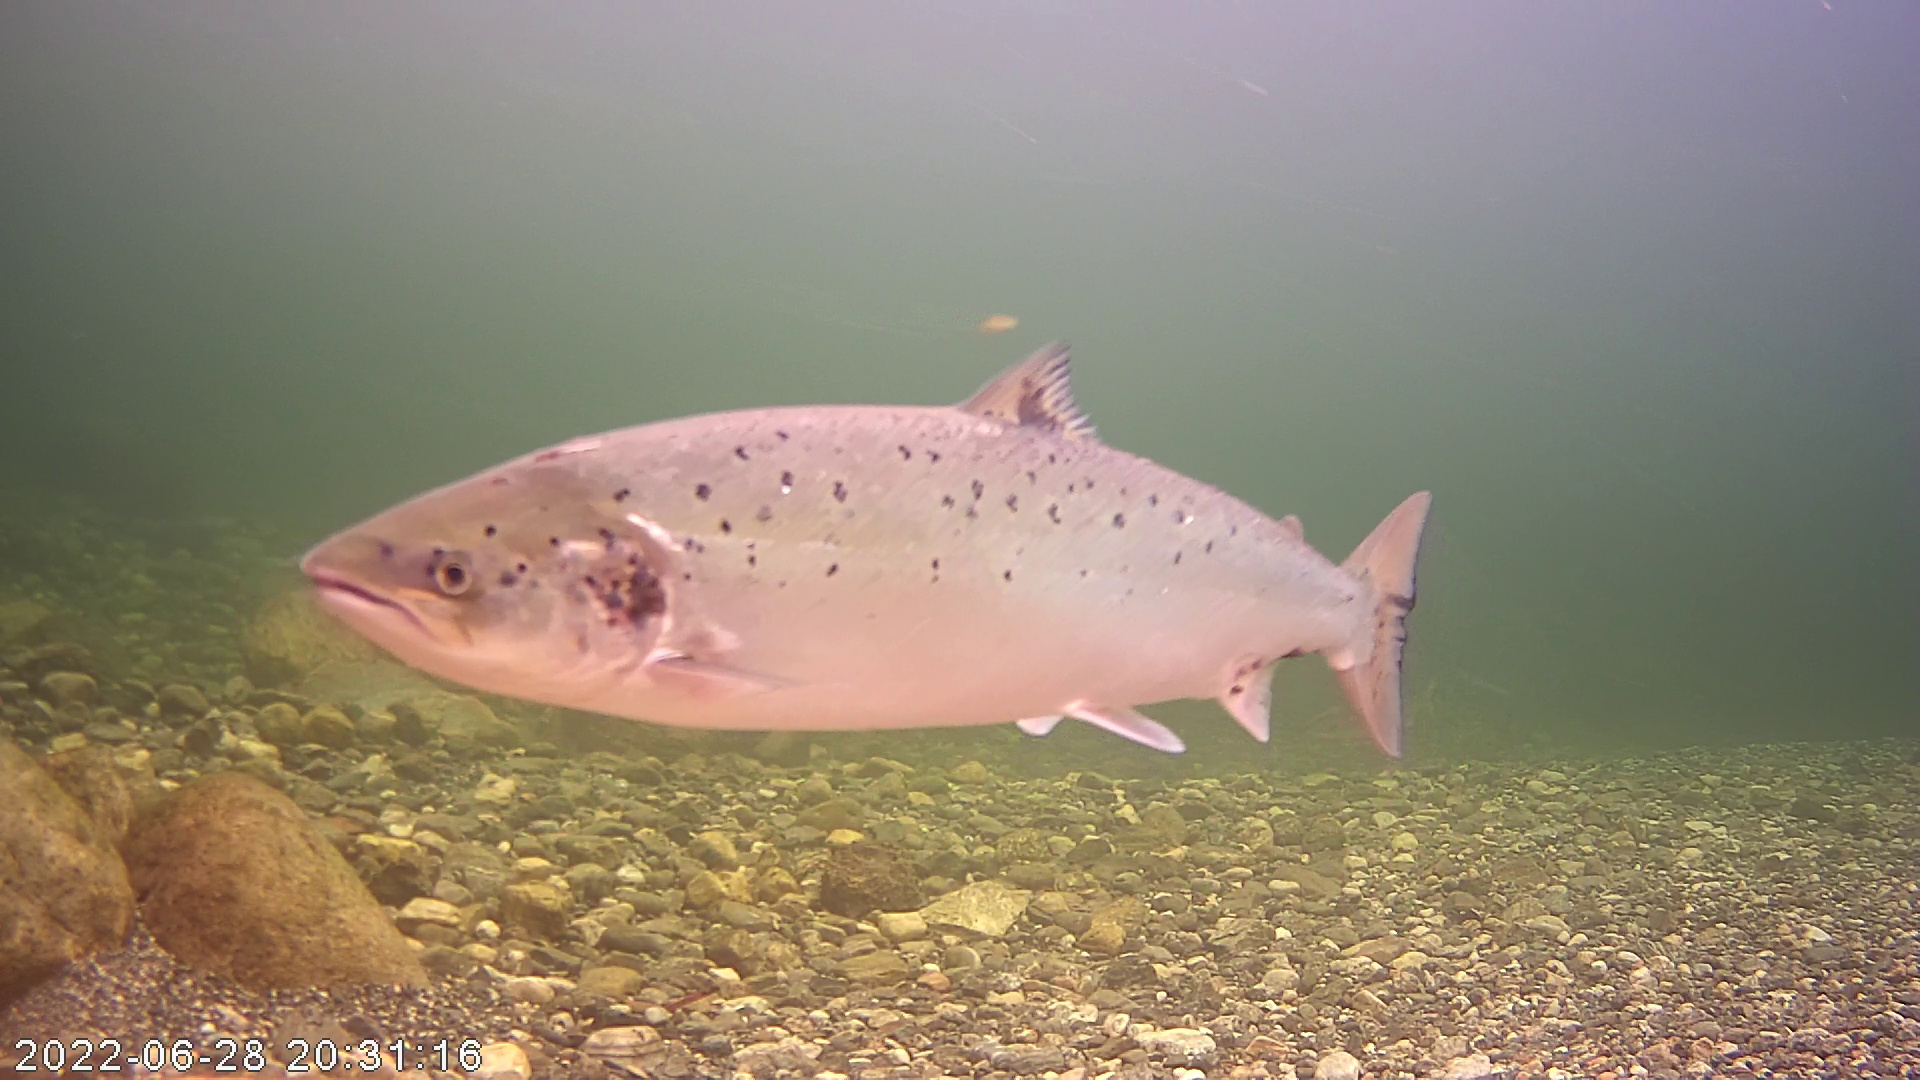salmon: (287, 284, 1398, 735)
